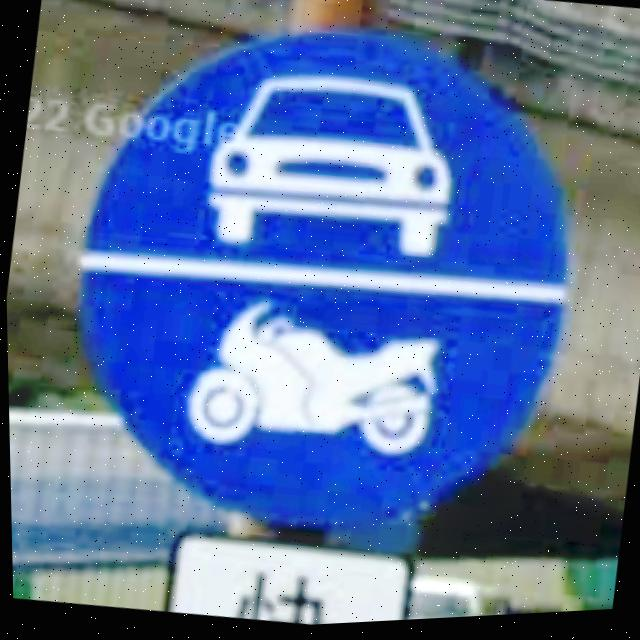carmotorcycle: (77, 35, 571, 535)
